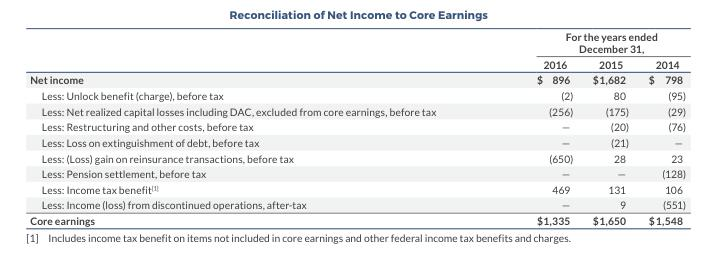table: (29, 29, 685, 226)
table column: (29, 29, 485, 226), (485, 29, 582, 226), (582, 29, 637, 226), (637, 29, 685, 226)
table column header: (29, 29, 685, 71)
table row: (29, 29, 685, 55), (29, 55, 685, 71), (29, 71, 685, 87), (29, 102, 685, 118), (29, 118, 685, 134), (29, 149, 685, 165), (29, 165, 685, 181), (29, 196, 685, 212), (29, 87, 685, 102), (29, 134, 685, 149), (29, 181, 685, 196), (29, 212, 685, 226)
table spanning cell: (485, 29, 685, 55)
